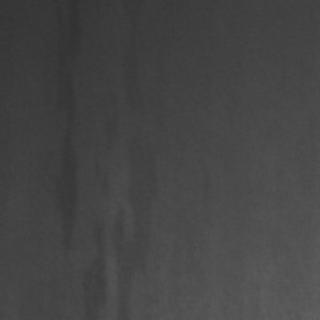inclusion: (93, 12, 153, 312), (42, 1, 84, 266)
